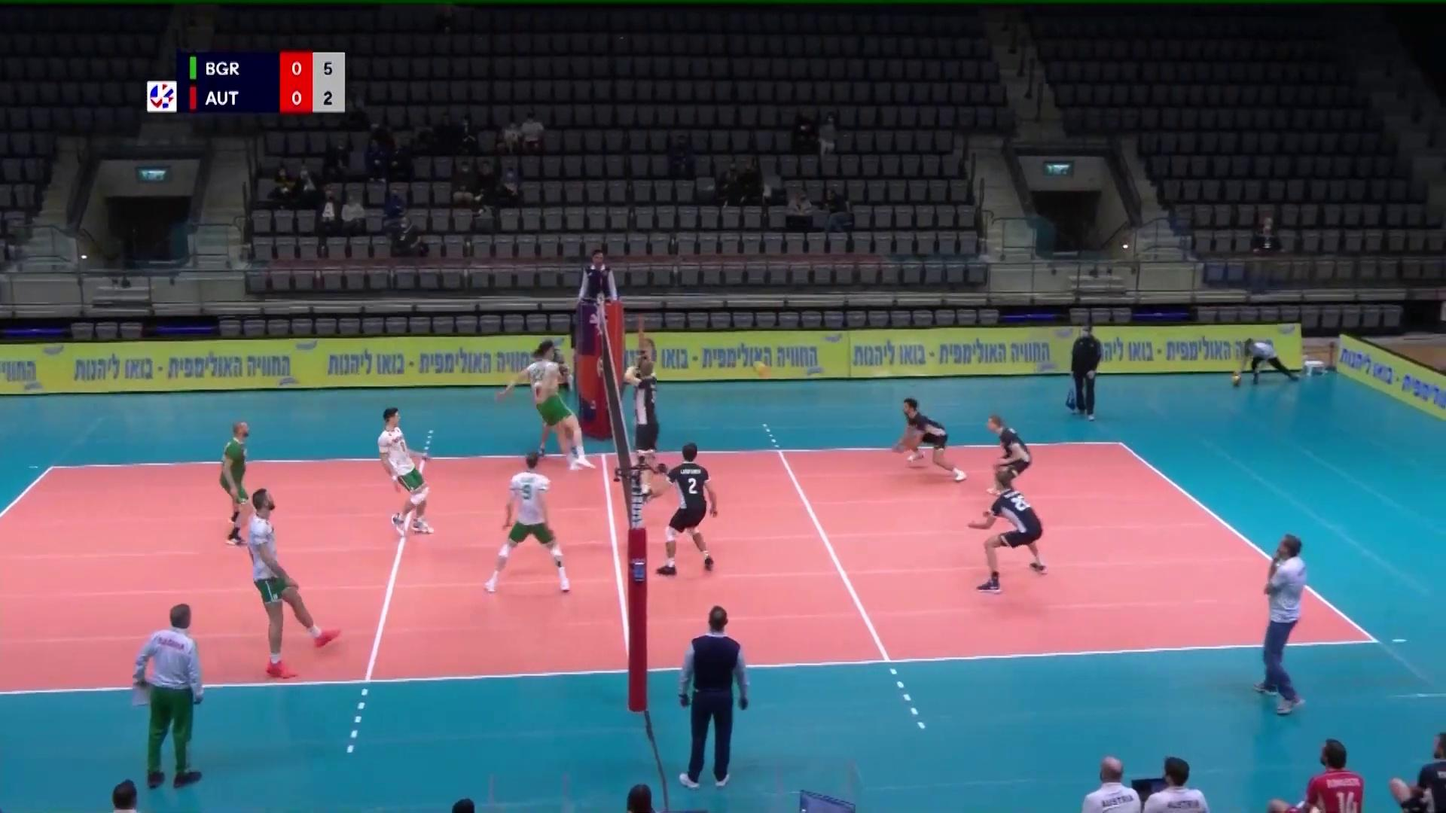ball: (751, 359, 768, 376)
